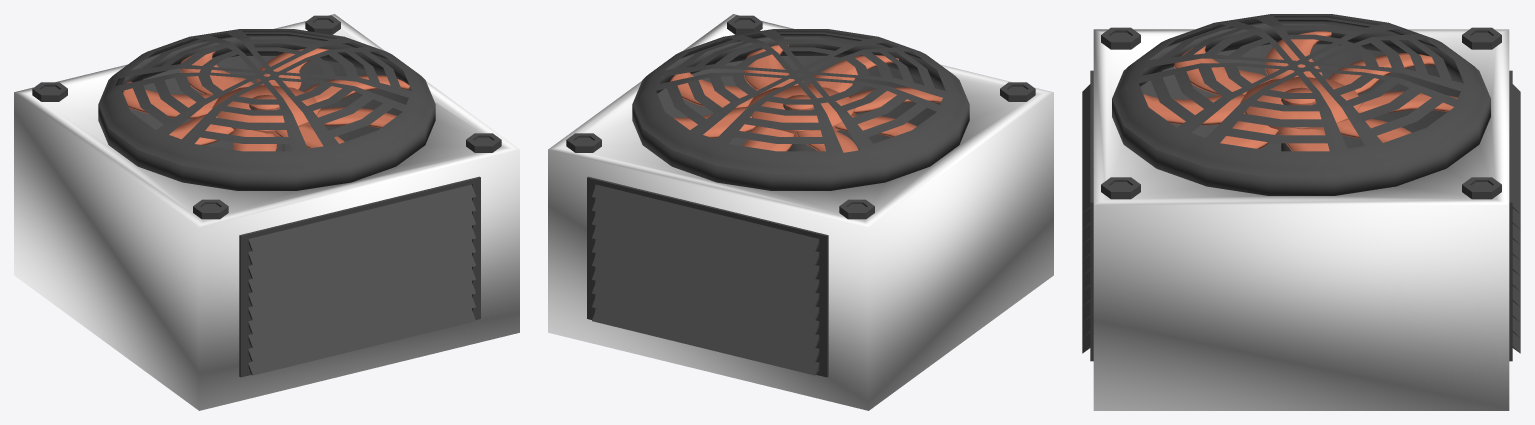
Rendered from AirVent_02.fbx.
3 views of the same model, side by side, from view 1: azimuth 30°, elevation 25°; view 2: azimuth 150°, elevation 25°; view 3: azimuth 270°, elevation 25° (orthographic). The views are drawn at different scales.
Parts seen in each view (by area): view 1: VentBox, Fanblade.002; view 2: VentBox, Fanblade.002; view 3: VentBox, Fanblade.002.
Boxes of the visible parts, <box> form: VentBox: <box>14,14,519,410</box>; Fanblade.002: <box>123,48,409,151</box>; VentBox: <box>548,14,1053,410</box>; Fanblade.002: <box>670,44,942,152</box>; VentBox: <box>1082,14,1520,410</box>; Fanblade.002: <box>1143,31,1457,151</box>.
Bounding box in the file's own units: 681 × 464 × 718.
